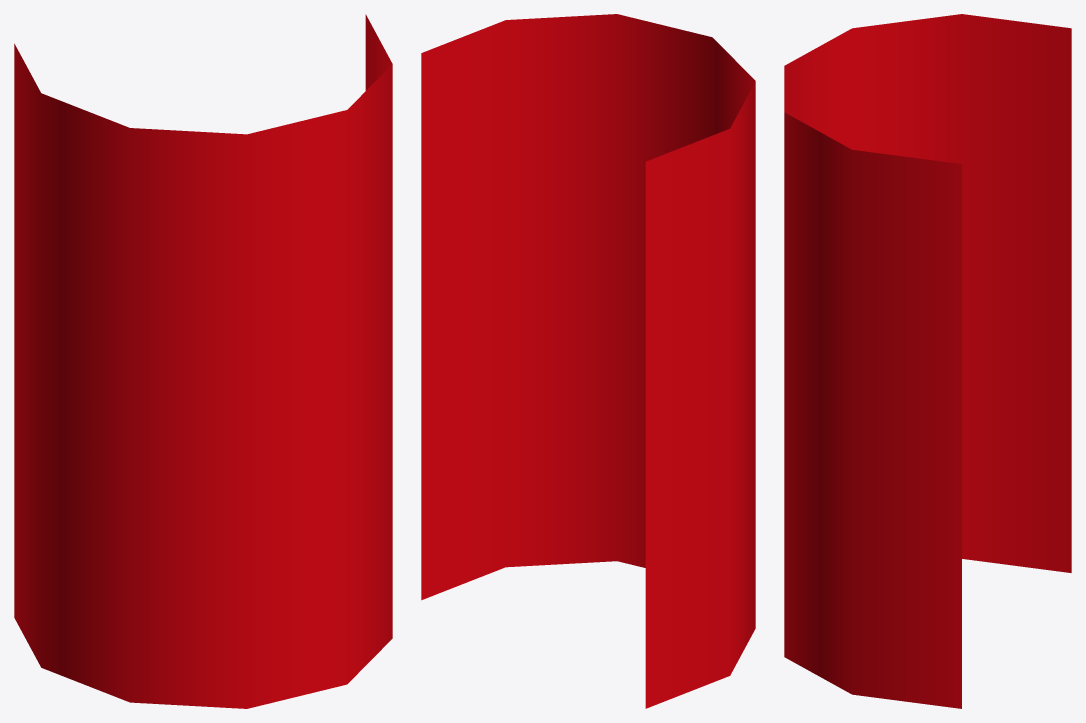
The model's file is Tapar.fbx.
3 views of the same model, side by side, from view 1: azimuth 30°, elevation 25°; view 2: azimuth 150°, elevation 25°; view 3: azimuth 270°, elevation 25° (orthographic). The views are drawn at different scales.
Visible parts, largest first — view 1: Tapar; view 2: Tapar; view 3: Tapar.
Boxes of the visible parts, x1,y1,x2,y2 form: Tapar: [14, 14, 392, 708]; Tapar: [421, 14, 755, 708]; Tapar: [784, 14, 1071, 708].
Size of the model in its own units: 4000 by 6770 by 3236.
